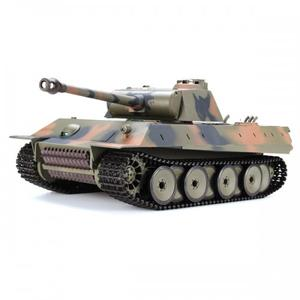Battle Tank: (8, 75, 297, 213)
